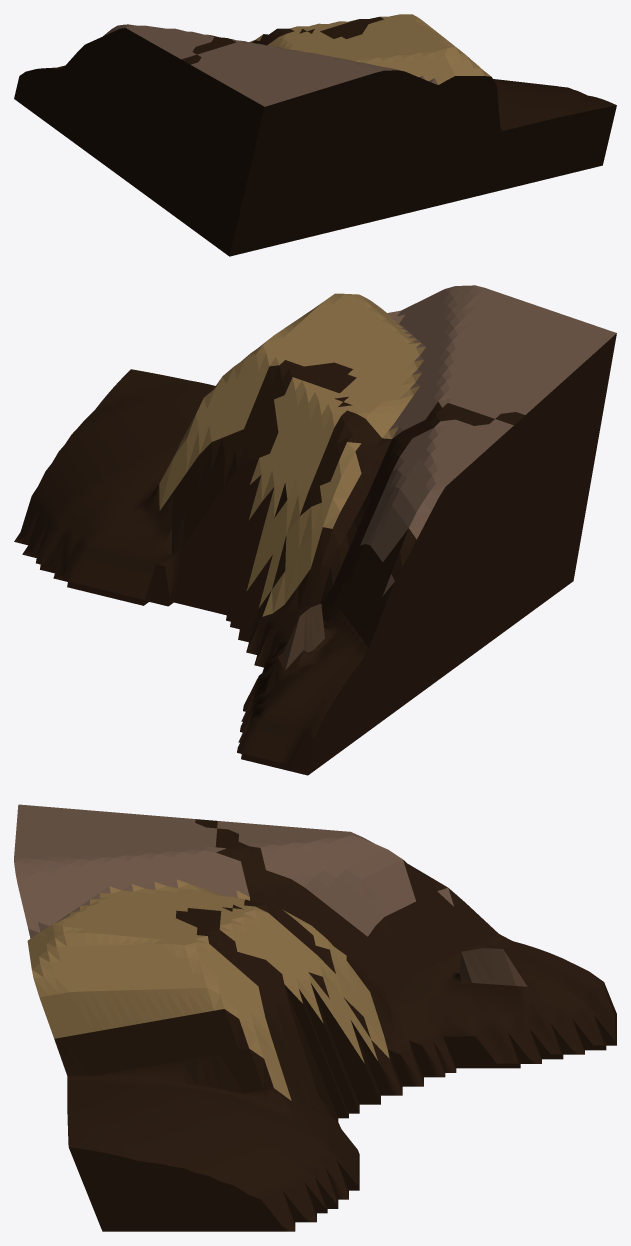
Rendered from ixm_boss_163.glb.
3 renders of one model, top to bottom at view 1: azimuth 30°, elevation 25°; view 2: azimuth 150°, elevation 25°; view 3: azimuth 270°, elevation 25°, orthographic. The views are drawn at different scales.
Visible parts, largest first — view 1: ixm_boss_163; view 2: ixm_boss_163; view 3: ixm_boss_163.
Boxes of the visible parts, x1,y1,x2,y2 form: ixm_boss_163: (14,14,616,256); ixm_boss_163: (14,285,616,775); ixm_boss_163: (14,804,616,1231).
Size of the model in its own units: 24 by 11.33 by 28.13.
